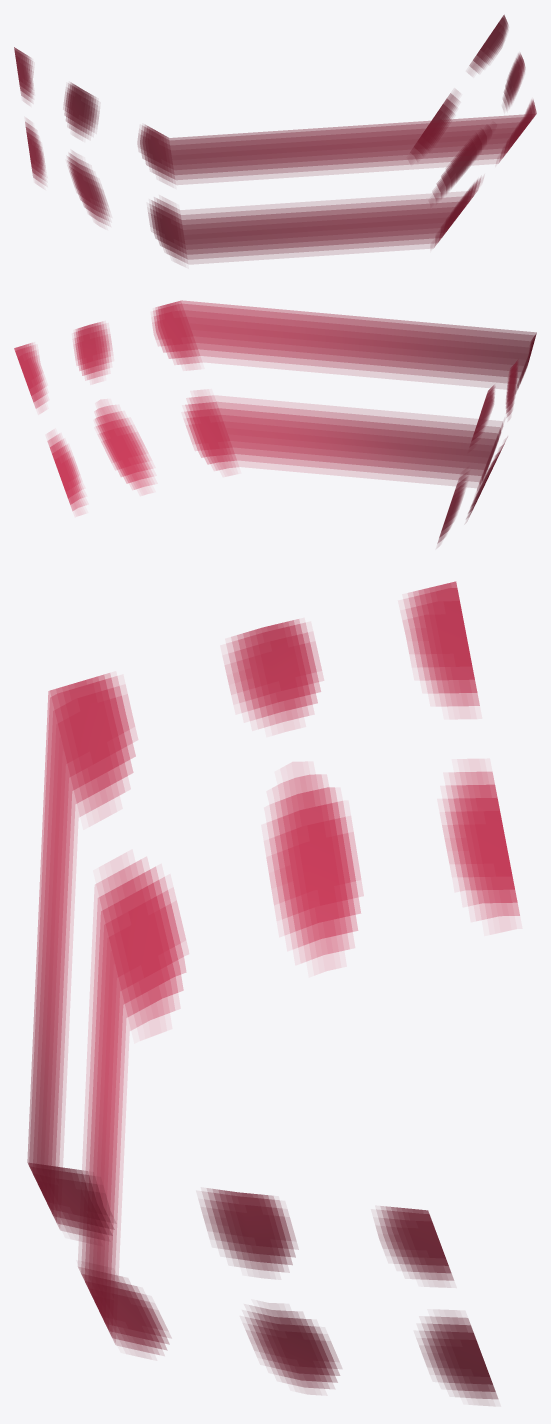
3 renders of one model, top to bottom at view 1: azimuth 30°, elevation 25°; view 2: azimuth 150°, elevation 25°; view 3: azimuth 270°, elevation 25°, orthographic. The views are drawn at different scales.
Visible parts, largest first — view 1: ef_457; view 2: ef_457; view 3: ef_457.
Part boxes in pixels (left/top/right/bottom): ef_457: left=14, top=15, right=536, bottom=264; ef_457: left=14, top=300, right=536, bottom=547; ef_457: left=27, top=581, right=519, bottom=1405.
Bounding box in the file's own units: 0.7834 × 0.3528 × 0.35.
1 material, 1 textured.
